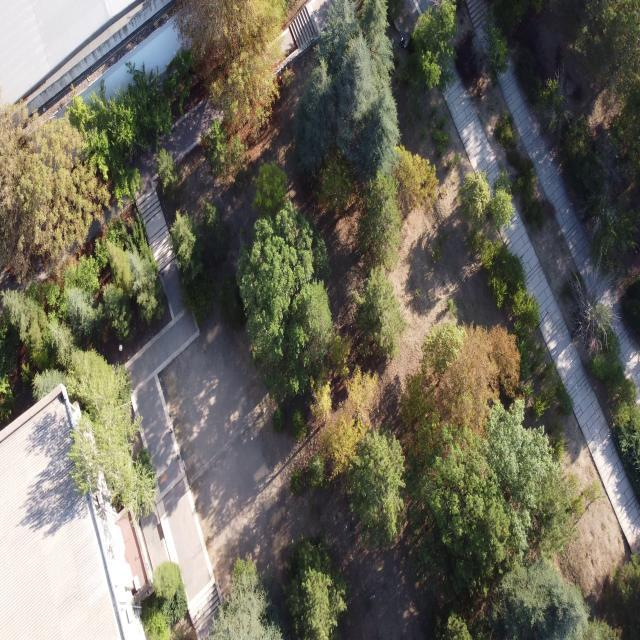vehicle: (400, 37, 406, 47)
